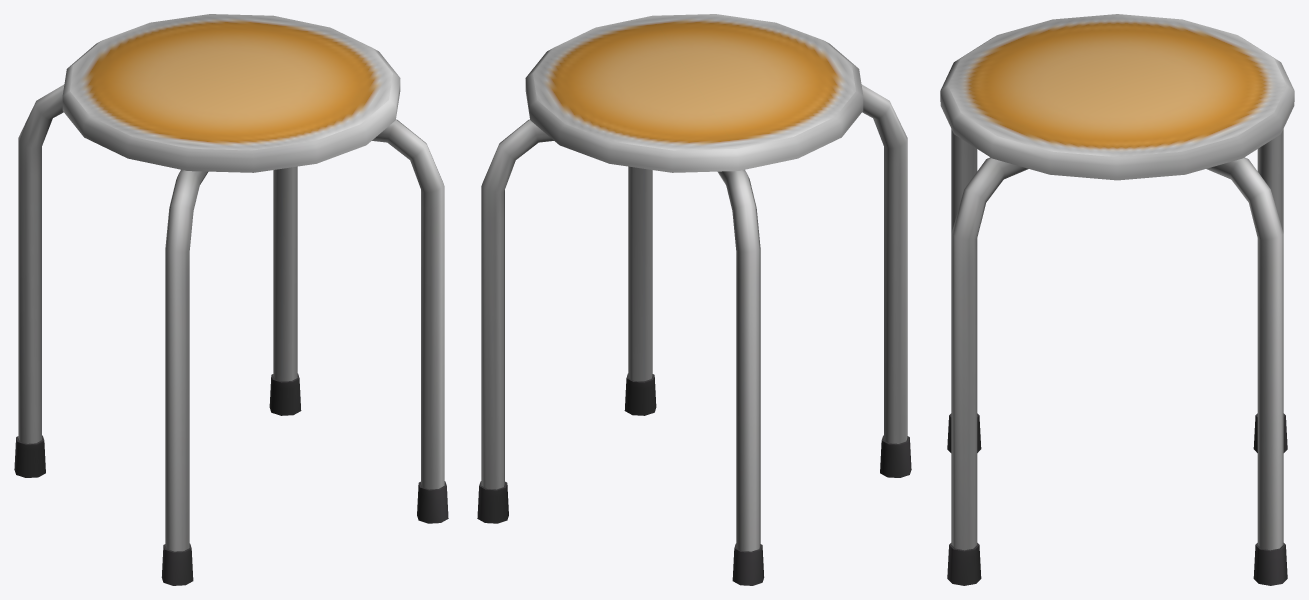
Rendered from jsf_Chair_02.fbx.
The picture shows the model from 3 angles, left to right: view 1: azimuth 30°, elevation 25°; view 2: azimuth 150°, elevation 25°; view 3: azimuth 270°, elevation 25°; orthographic projection. The views are drawn at different scales.
Parts seen in each view (by area): view 1: jsf_Chair_02; view 2: jsf_Chair_02; view 3: jsf_Chair_02.
Boxes of the visible parts, x1=… form: jsf_Chair_02: x1=14, y1=14, x2=448, y2=585; jsf_Chair_02: x1=477, y1=14, x2=911, y2=585; jsf_Chair_02: x1=940, y1=14, x2=1294, y2=585.
Bounding box in the file's own units: 33 × 44 × 33.
